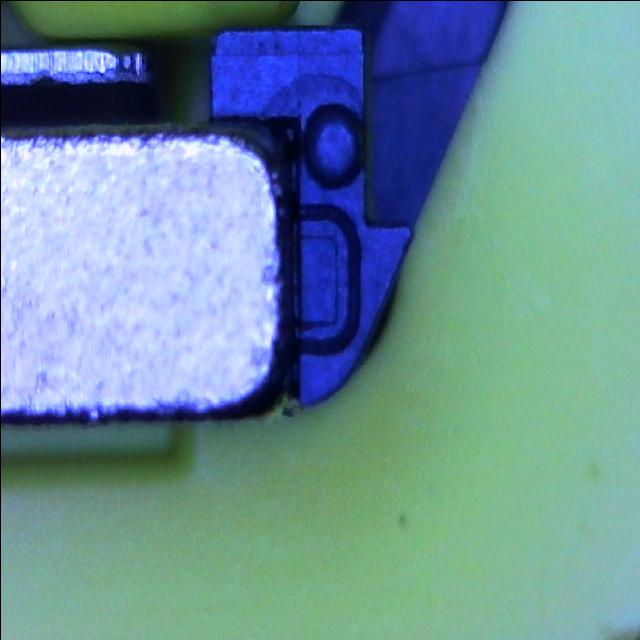lacking: (286, 203, 362, 357)
